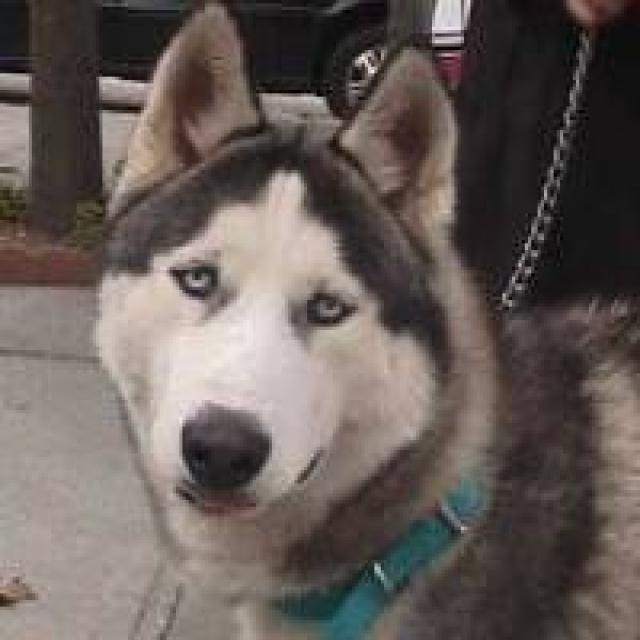Dog: (77, 0, 480, 527)
